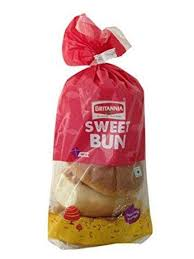bread: (49, 14, 155, 251)
